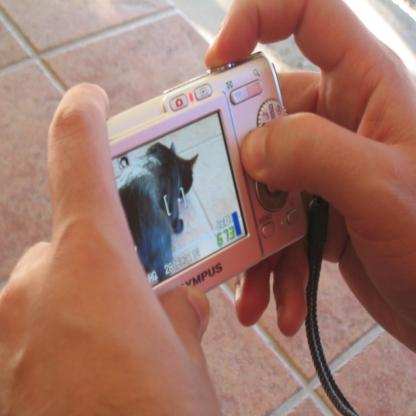Camera: (102, 25, 372, 322)
